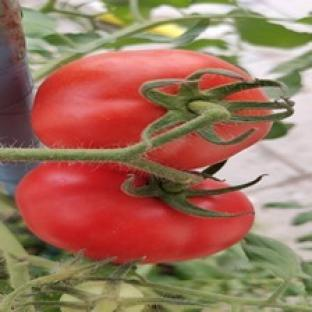Tomato: (17, 163, 253, 263), (33, 49, 250, 149), (76, 282, 143, 311)
